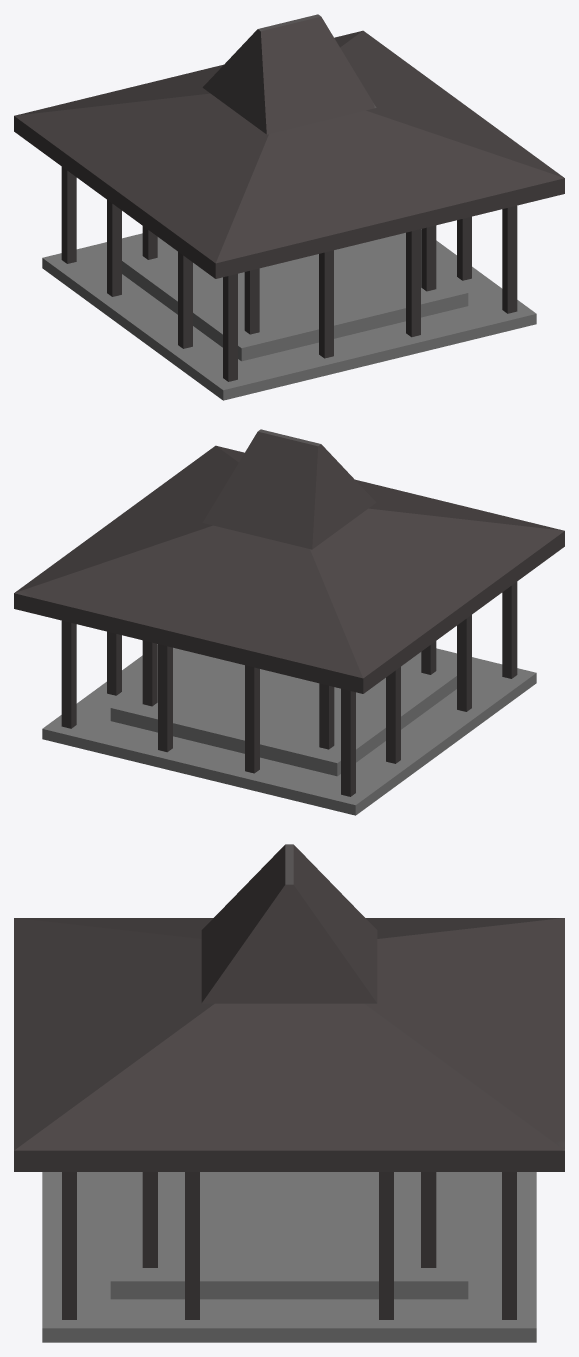
Rendered from B_SriMaganti.fbx.
3 renders of one model, top to bottom at view 1: azimuth 30°, elevation 25°; view 2: azimuth 150°, elevation 25°; view 3: azimuth 270°, elevation 25°, orthographic. The views are drawn at different scales.
Visible parts, largest first — view 1: B_SriMaganti; view 2: B_SriMaganti; view 3: B_SriMaganti.
Part boxes in pixels (left/top/right/bottom): B_SriMaganti: left=14, top=14, right=564, bottom=400; B_SriMaganti: left=14, top=429, right=564, bottom=815; B_SriMaganti: left=14, top=844, right=564, bottom=1342.
Size of the model in its own units: 430 by 322 by 430.
1 material, 1 textured.
